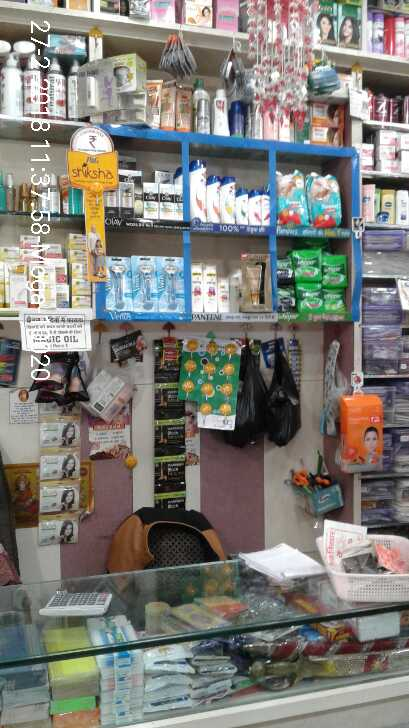venus: (133, 257, 159, 309), (107, 257, 133, 309), (159, 256, 182, 309)
